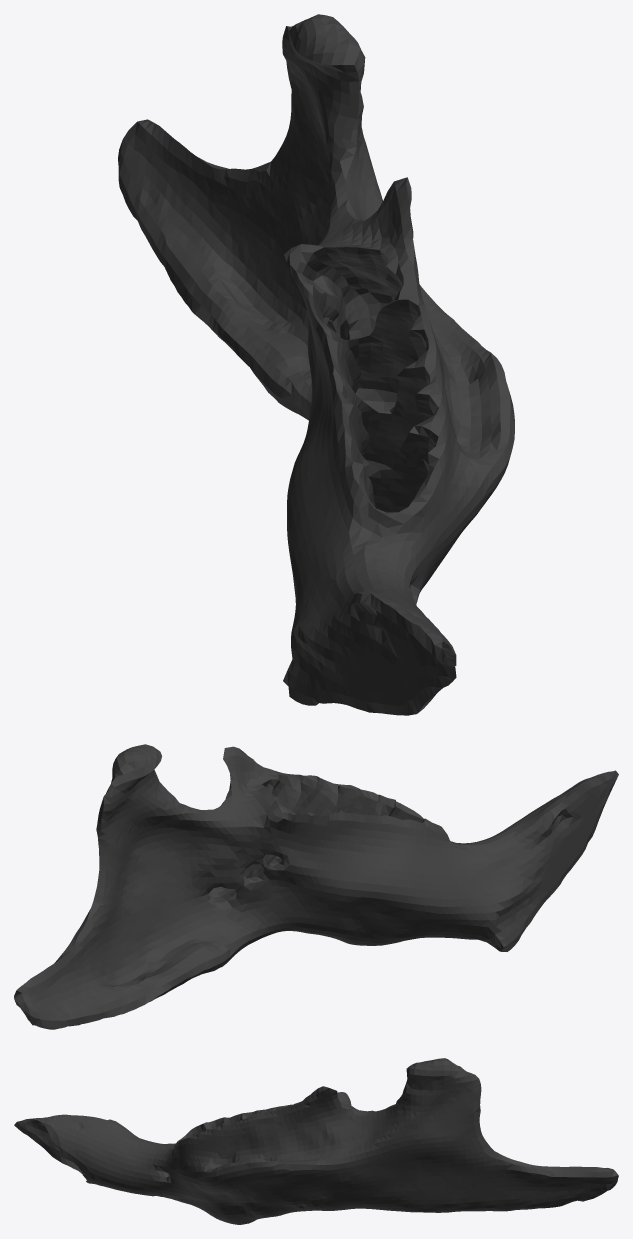
The model's file is Jaw_1.glb.
3 renders of one model, top to bottom at view 1: azimuth 30°, elevation 25°; view 2: azimuth 150°, elevation 25°; view 3: azimuth 270°, elevation 25°, orthographic. The views are drawn at different scales.
Parts seen in each view (by area): view 1: Jaw_1; view 2: Jaw_1; view 3: Jaw_1.
Boxes of the visible parts, <box> form: Jaw_1: <box>118,14,514,715</box>; Jaw_1: <box>14,744,618,1029</box>; Jaw_1: <box>14,1058,618,1224</box>.
Bounding box in the file's own units: 1.34 × 1.68 × 4.43.
Materials: 1 (1 with a texture image).
